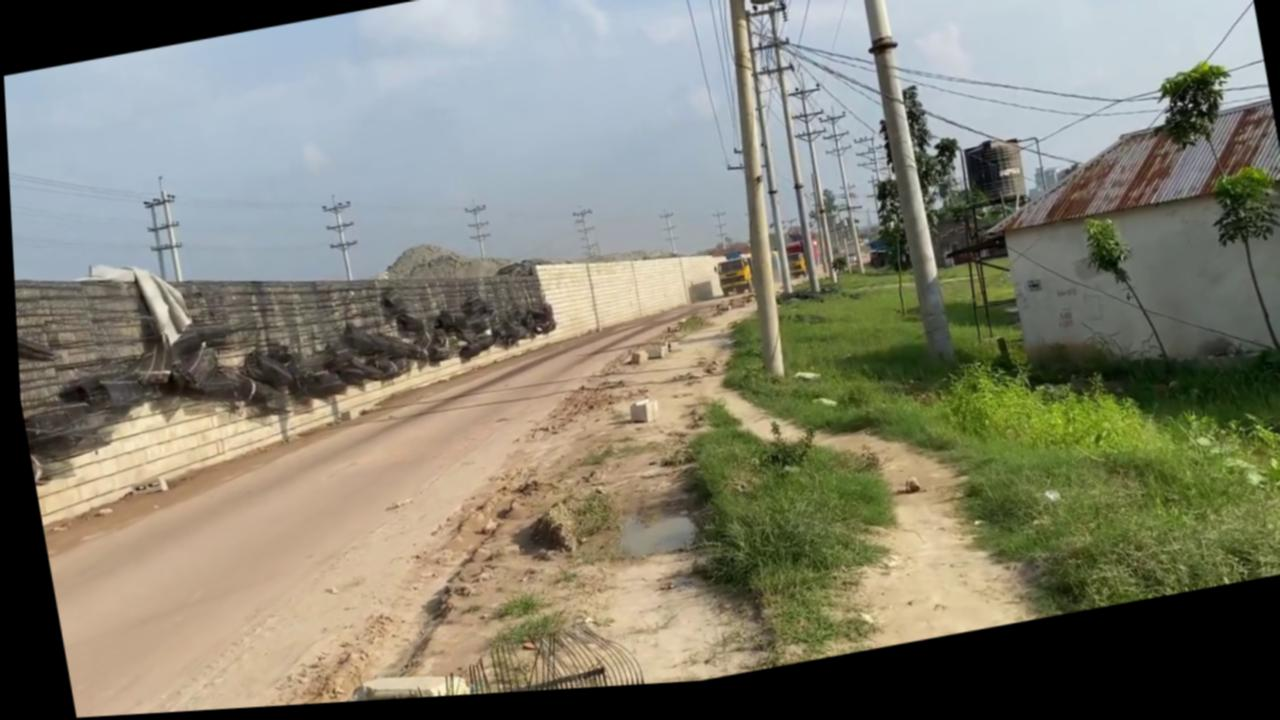Muddy road: (16, 260, 1030, 720)
Obstacle: (286, 619, 637, 708), (622, 403, 656, 432)
Pole: (689, 0, 810, 394), (847, 0, 951, 382), (740, 0, 829, 308)
Traffic-sign: (1199, 174, 1280, 374)
Tree: (707, 249, 807, 307), (708, 261, 752, 307), (780, 250, 805, 289)
